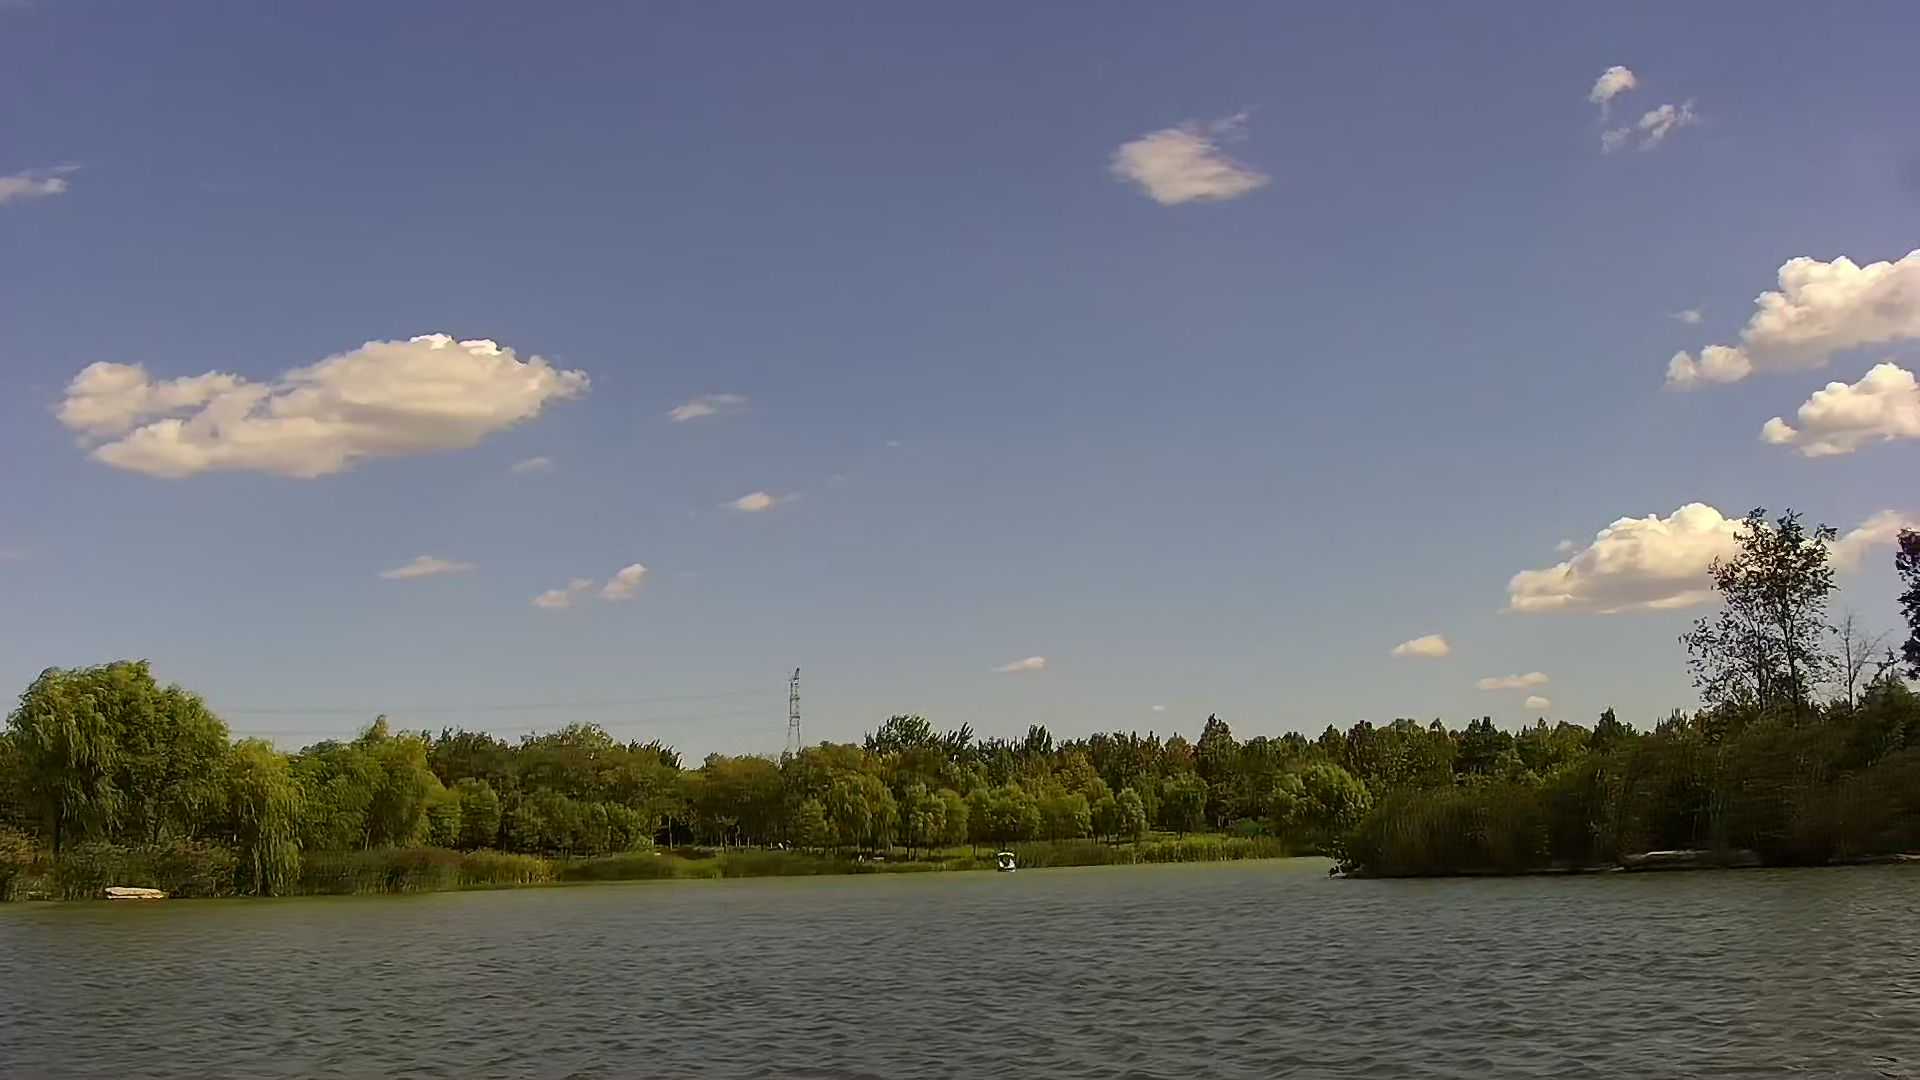boat: (998, 845, 1015, 873)
rock: (1639, 847, 1725, 868), (104, 887, 156, 899)
